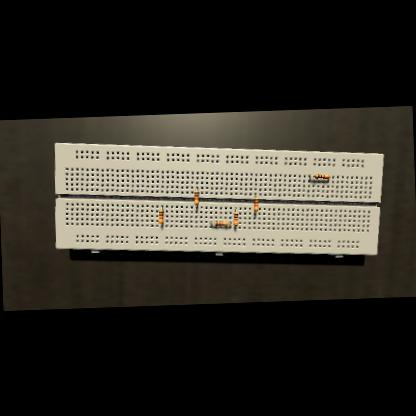breadboard: (52, 131, 387, 266)
resistor: (314, 173, 330, 179), (159, 209, 164, 224), (214, 220, 229, 225), (194, 190, 199, 204), (234, 212, 239, 224), (254, 198, 258, 211)
wire: (309, 176, 315, 177), (254, 194, 256, 197), (161, 206, 163, 209), (211, 221, 214, 223), (196, 206, 198, 208), (235, 208, 236, 212), (254, 212, 256, 214), (160, 224, 162, 226), (197, 187, 198, 190), (228, 222, 230, 223), (234, 226, 235, 228)
